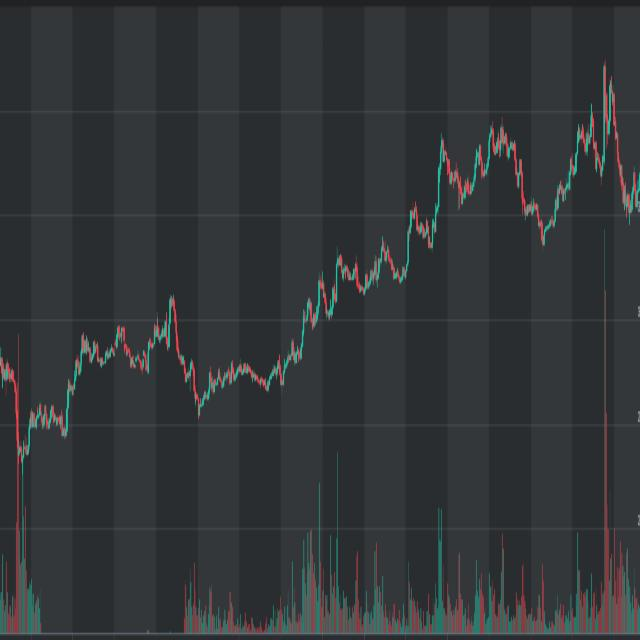Channel-up: (261, 67, 519, 427)
Head-Shoulders: (145, 288, 199, 410)
rectangle: (26, 396, 66, 446)
